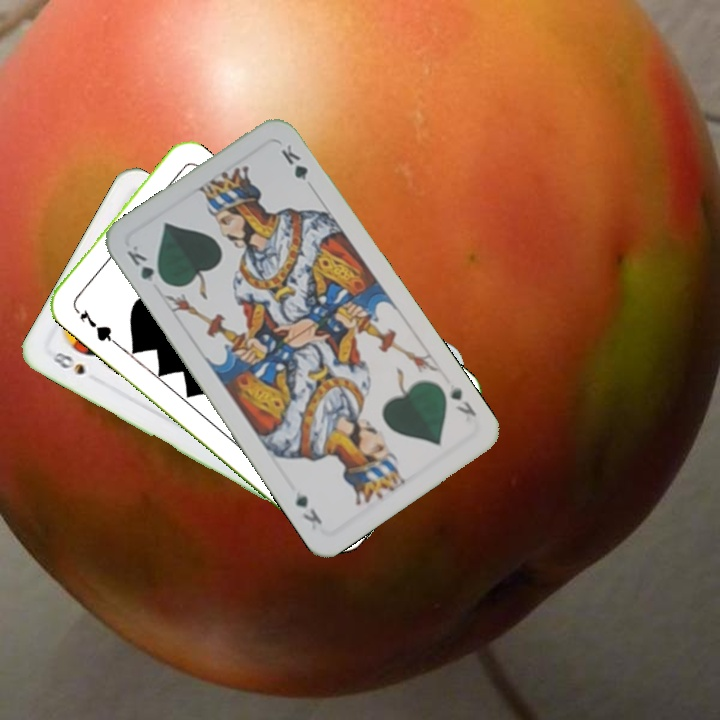G7: (75, 306, 117, 345)
GK: (122, 241, 169, 289), (446, 382, 479, 419)
S8: (48, 348, 88, 378)
